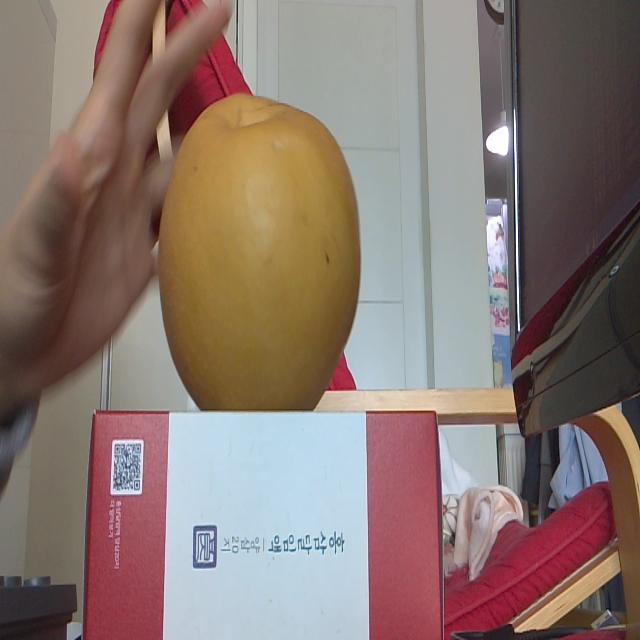pear: (157, 95, 360, 411)
